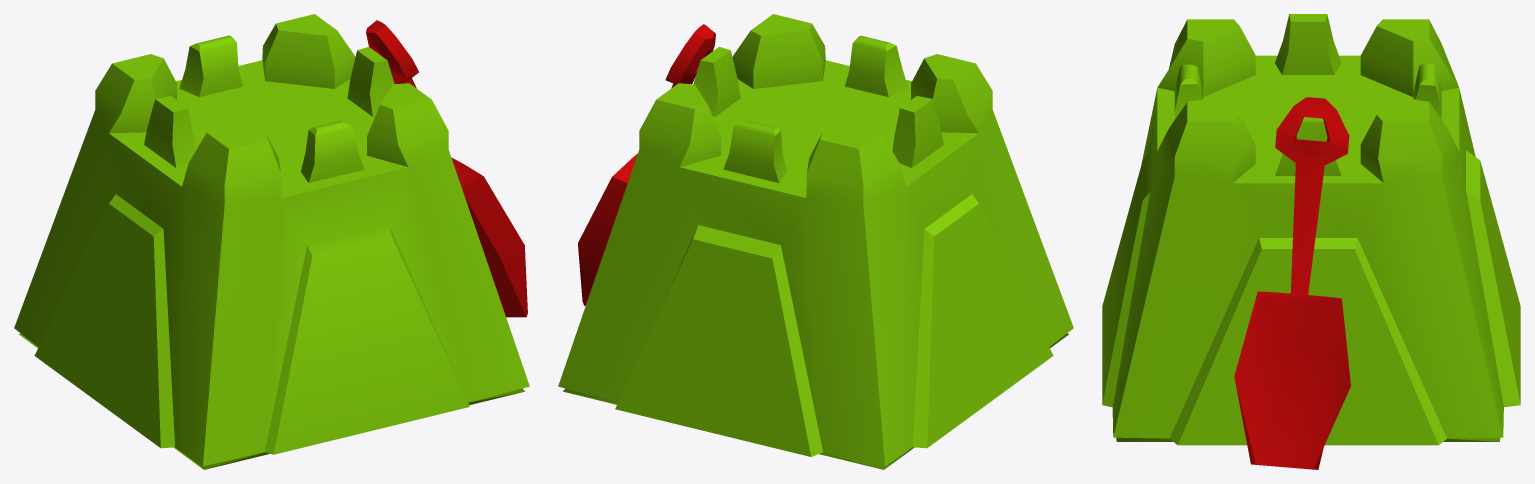
File: SandCastle.fbx
The picture shows the model from 3 angles, left to right: view 1: azimuth 30°, elevation 25°; view 2: azimuth 150°, elevation 25°; view 3: azimuth 270°, elevation 25°; orthographic projection. The views are drawn at different scales.
Visible parts, largest first — view 1: Cube, Cylinder; view 2: Cube, Cylinder; view 3: Cube, Cylinder.
Part boxes in pixels (left/top/right/bottom): Cube: left=14, top=14, right=529, bottom=469; Cylinder: left=366, top=20, right=527, bottom=317; Cube: left=558, top=14, right=1073, bottom=469; Cylinder: left=578, top=24, right=715, bottom=305; Cube: left=1102, top=14, right=1520, bottom=445; Cylinder: left=1234, top=97, right=1350, bottom=469.
Size of the model in its own units: 56.14 by 41.06 by 48.55.
